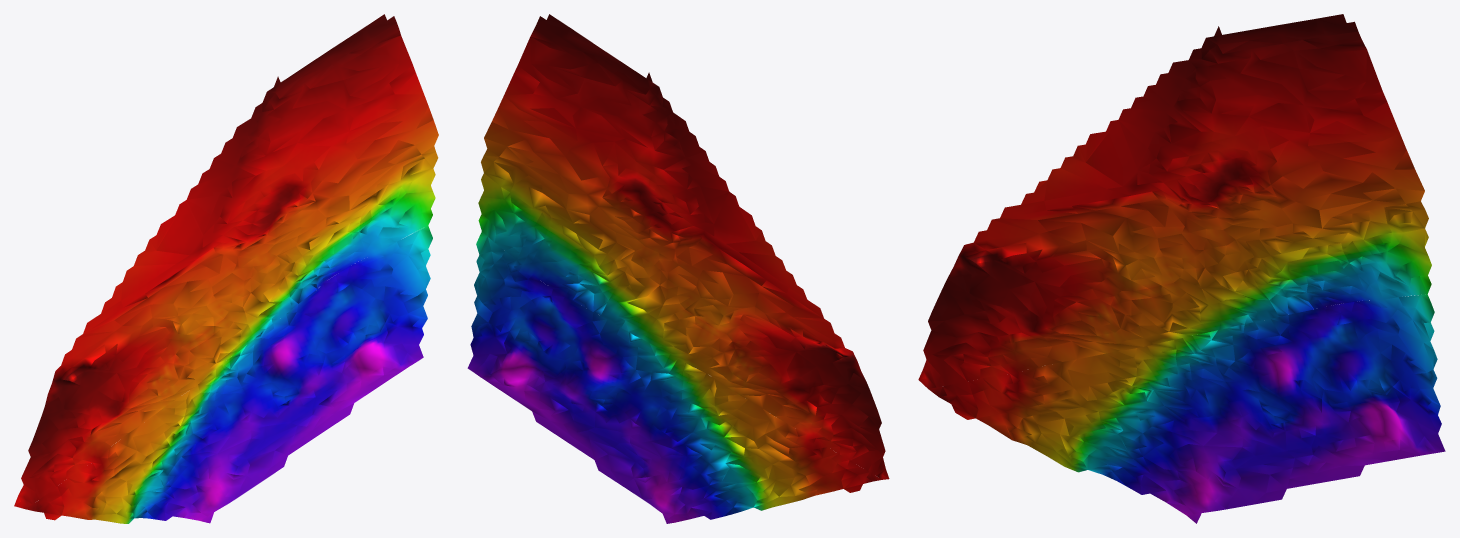
Rendered from Topo_Mioceno_cubo.glb.
3 views of the same model, side by side, from view 1: azimuth 30°, elevation 25°; view 2: azimuth 150°, elevation 25°; view 3: azimuth 330°, elevation 25° (orthographic). The views are drawn at different scales.
Visible parts, largest first — view 1: Surface; view 2: Surface; view 3: Surface.
Boxes of the visible parts, x1,y1,x2,y2 form: Surface: (14,14,438,523); Surface: (467,14,889,523); Surface: (918,14,1445,523).
Size of the model in its own units: 144456 by 157326 by 16491.
1 material, 1 textured.
